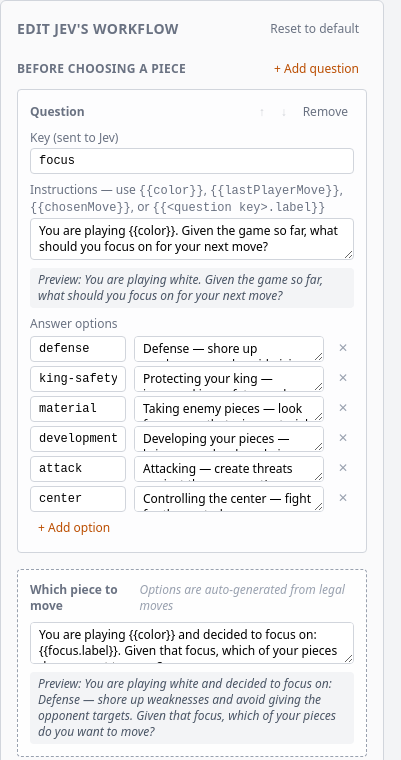
Test: JevWorkflowEditor › adds and removes a pre-move question
The image size is (401, 760).
Click the button "+ Add question" at (316, 69), box 266,57 -> 367,81
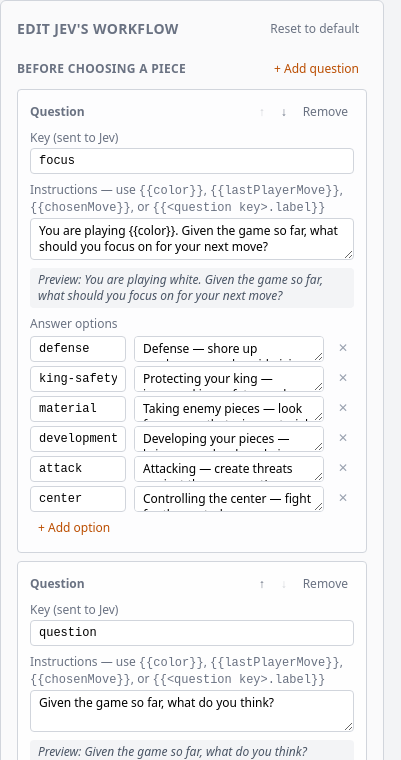
Check: the text "Question" is shown 4 times
Click the button with aria-label "remove question" at (325, 112), box 297,102 -> 354,122
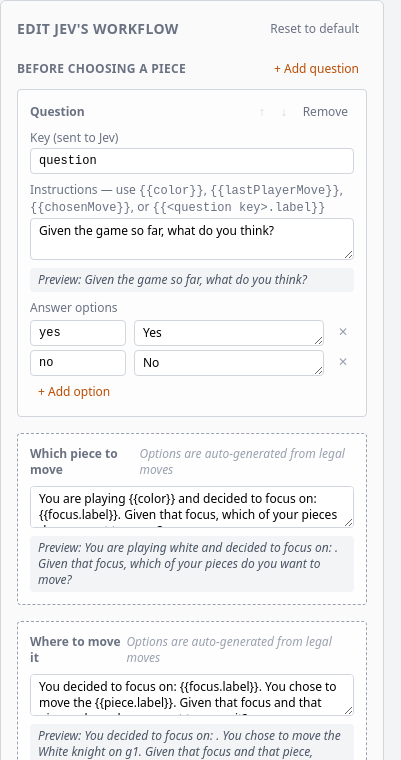
Check: the text "Question" is shown 3 times
